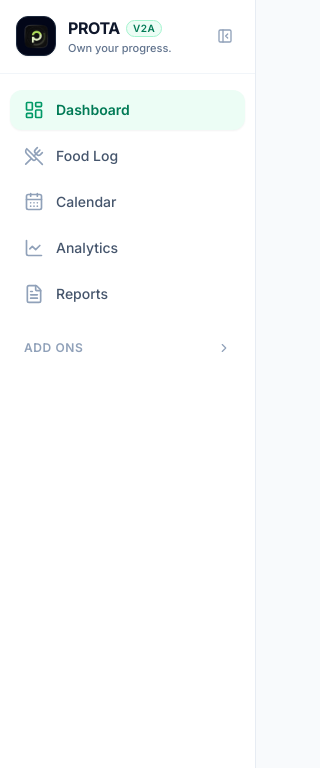
Phase 6A: Add Ons Navigation & Diet Planner Frontend › renders Add Ons expandable section in Sidebar with Diet Plan, Workout Plan, and Improve Progress
Note: Click to expand if not expanded
Click the button "Add Ons" at (128, 348), box [10, 332, 245, 364]
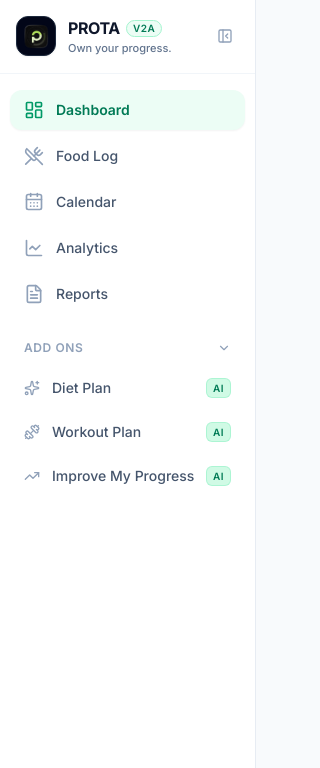
Result: the text "Diet Plan" is shown at [52, 378, 111, 398]
Result: the text "Workout Plan" is shown at [52, 422, 141, 442]
Result: the text "Improve My Progress" is shown at [52, 466, 194, 486]
